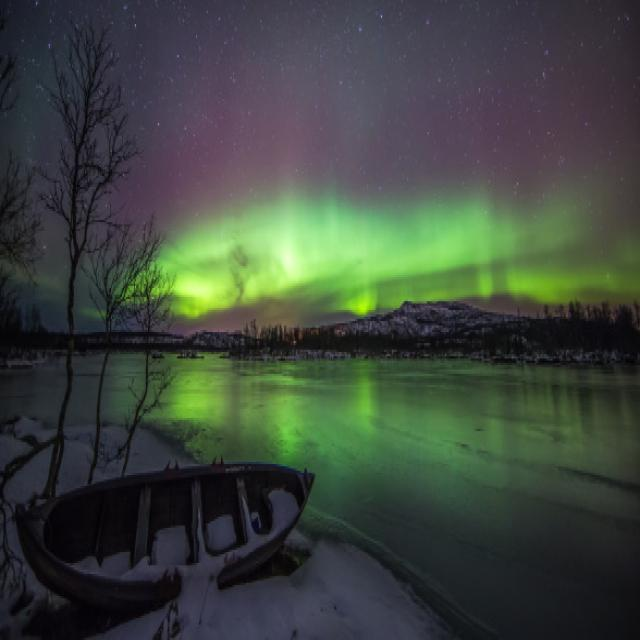Boat: (15, 418, 317, 625)
